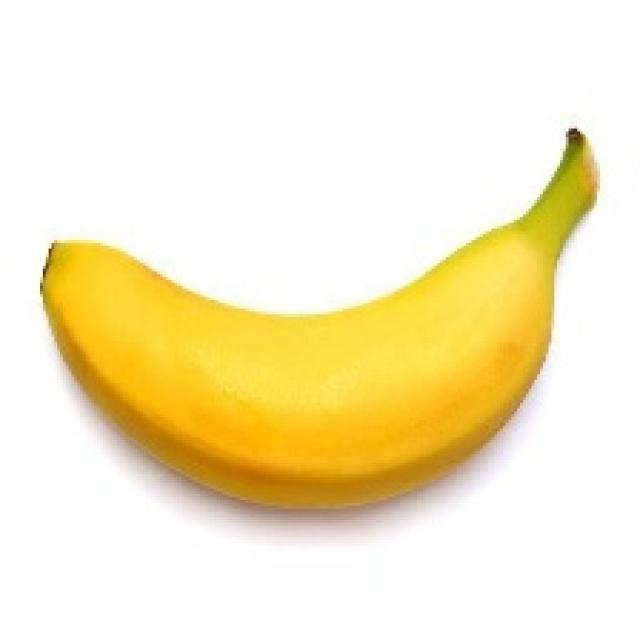Banana: (37, 126, 600, 511)
